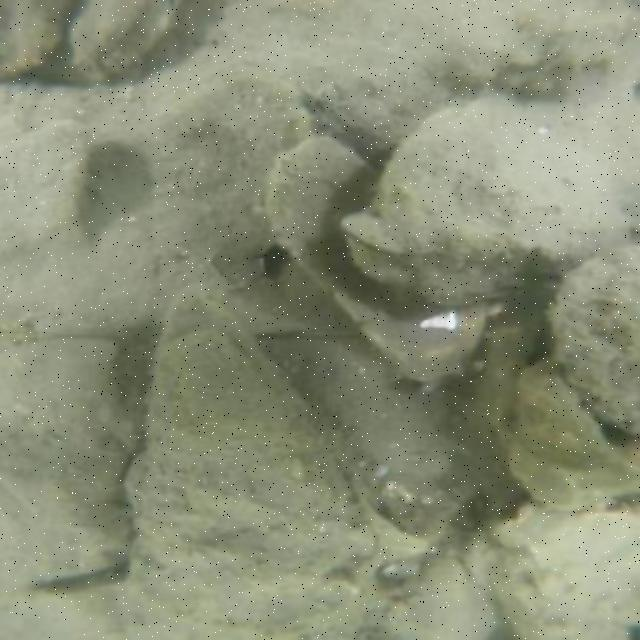Oyster-Closed: (131, 281, 374, 617), (156, 2, 630, 142), (265, 130, 485, 387), (356, 101, 628, 301), (0, 334, 134, 589), (469, 509, 638, 633), (551, 247, 638, 433), (517, 370, 636, 504), (360, 556, 496, 638), (72, 0, 201, 79), (1, 0, 75, 75)
